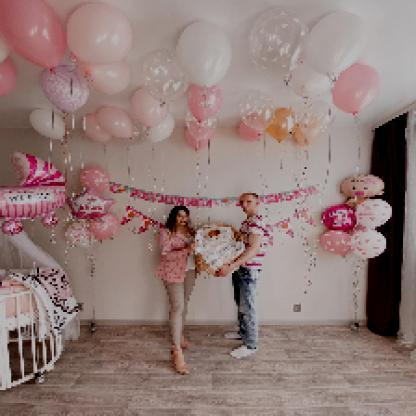child: (204, 228, 233, 261)
